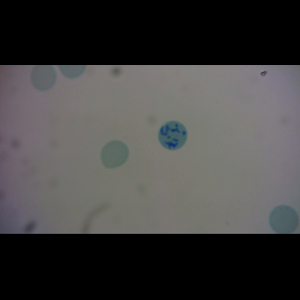aggregate reticulocyte: (157, 121, 189, 151)
erythrocyte: (268, 204, 299, 233), (100, 140, 130, 169), (29, 65, 58, 91)
